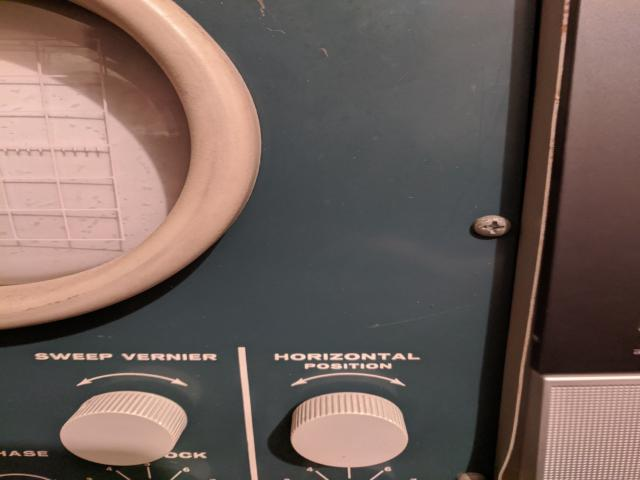CRS: (471, 215, 512, 237)
